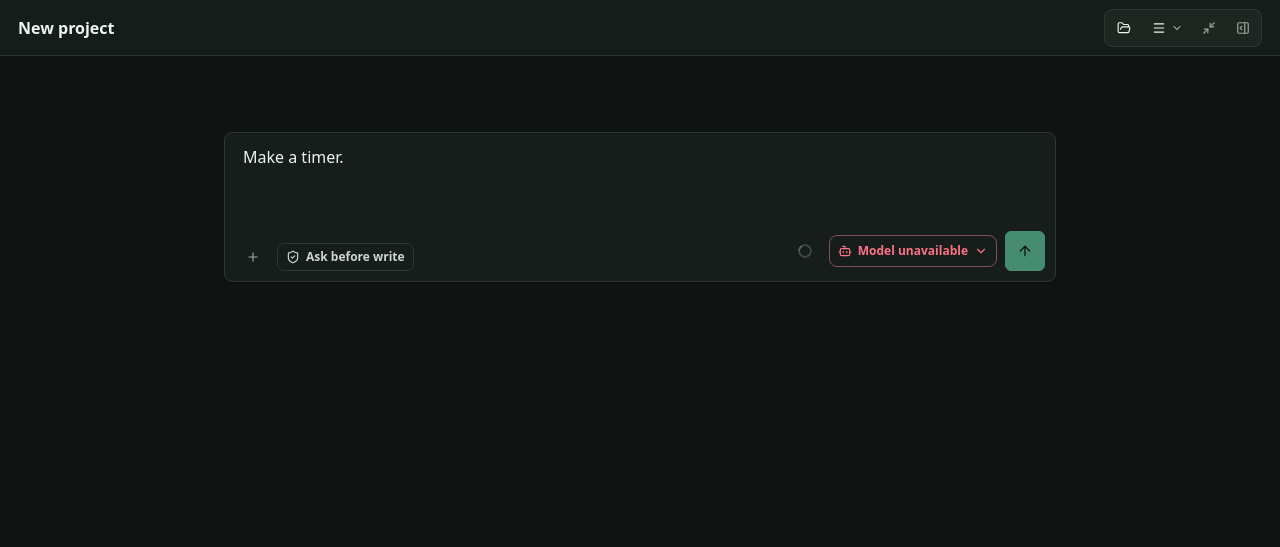
Scenario: BuilderPage v2 › keeps the current source folder visible outside the composer before first save
Click the button named "Workspace menu". click: (1167, 28)
box: [1144,12,1190,42]
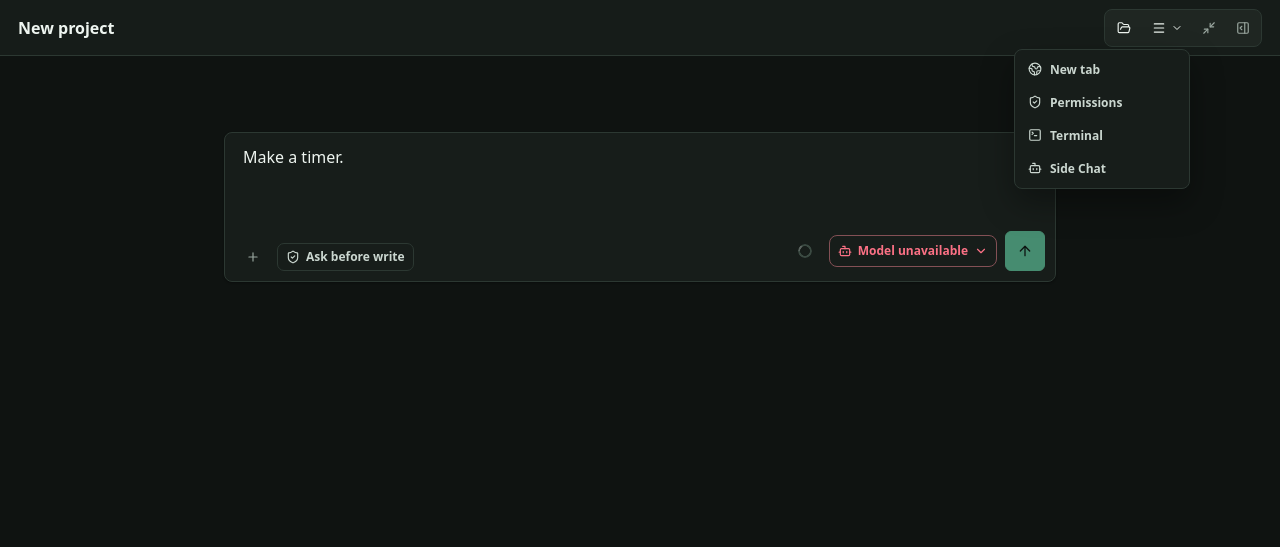
Now the menu item "Permissions" is shown, box [1019,86,1185,118]
Now the menu item "New tab" is shown
Click the menu item "New tab". click: (1102, 69)
box: [1019,54,1185,84]
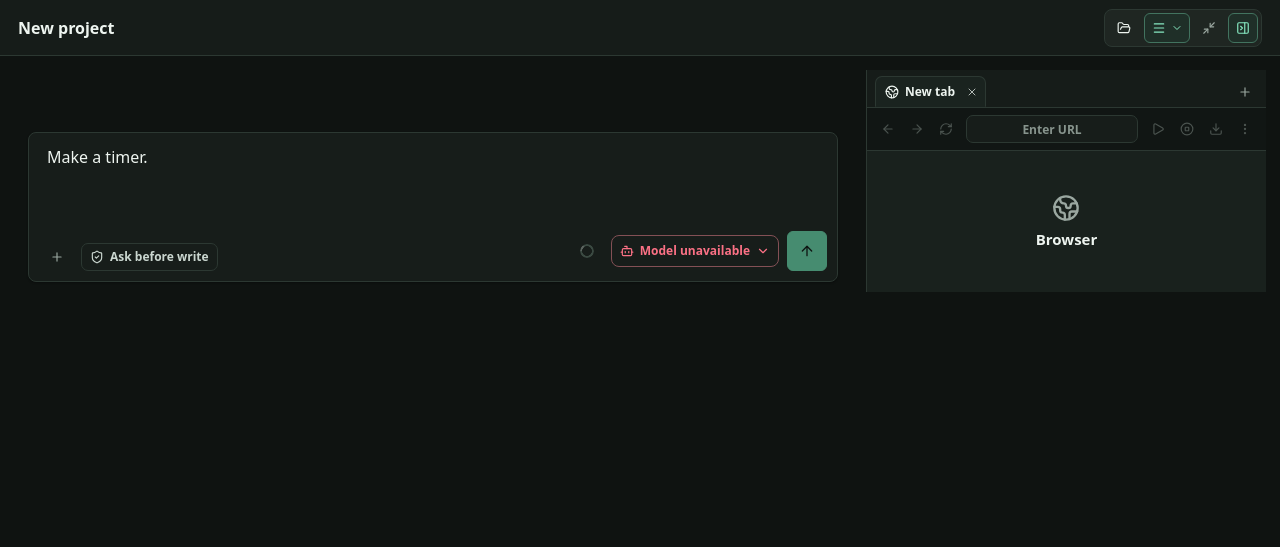
Now the element showing "Browser" is shown, box [867,108,1266,292]
Click the button named "Workspace menu". click: (1167, 28)
box: [1144,12,1190,42]
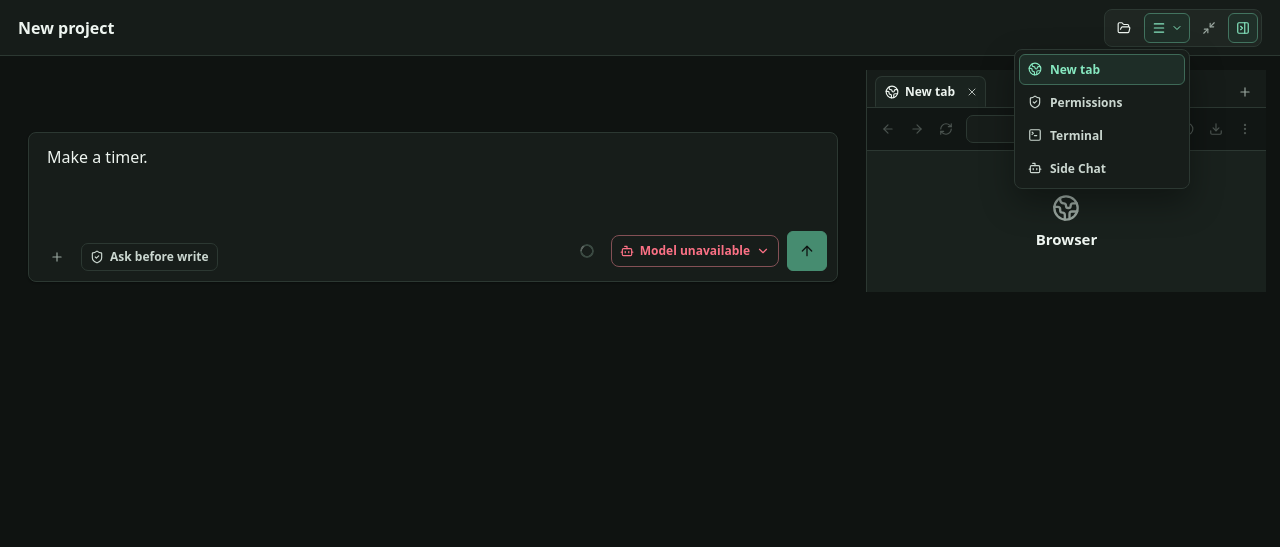
Now the menu item "Permissions" is shown
Click the menu item "Permissions". click: (1102, 102)
box: [1019,86,1185,118]
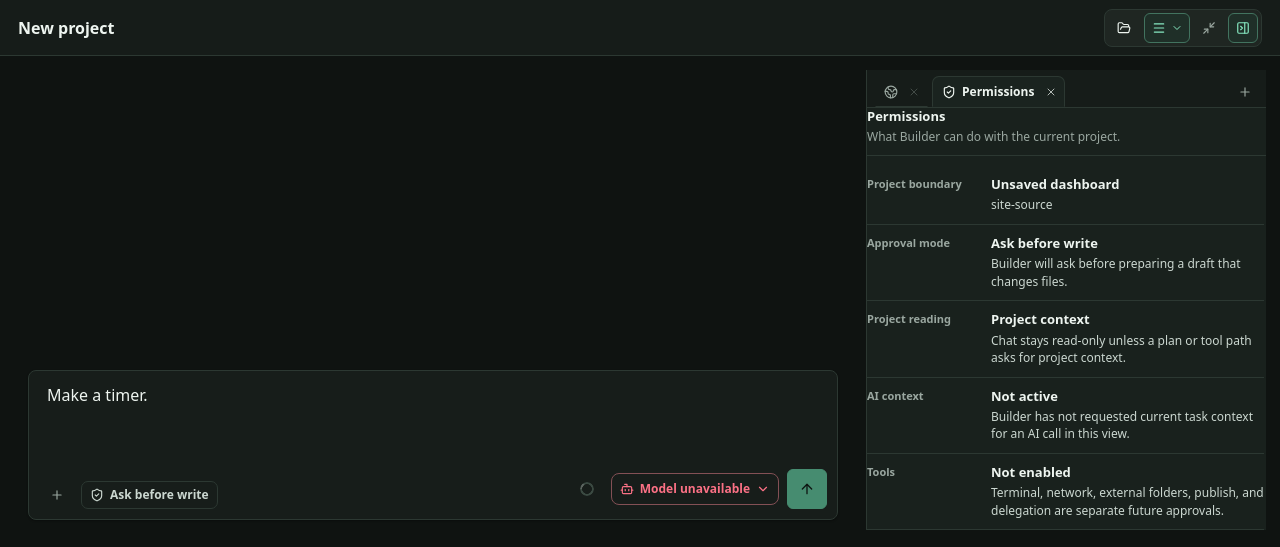
Now the element named "Permissions" shows "Unsaved dashboard", box [991,175,1120,193]
